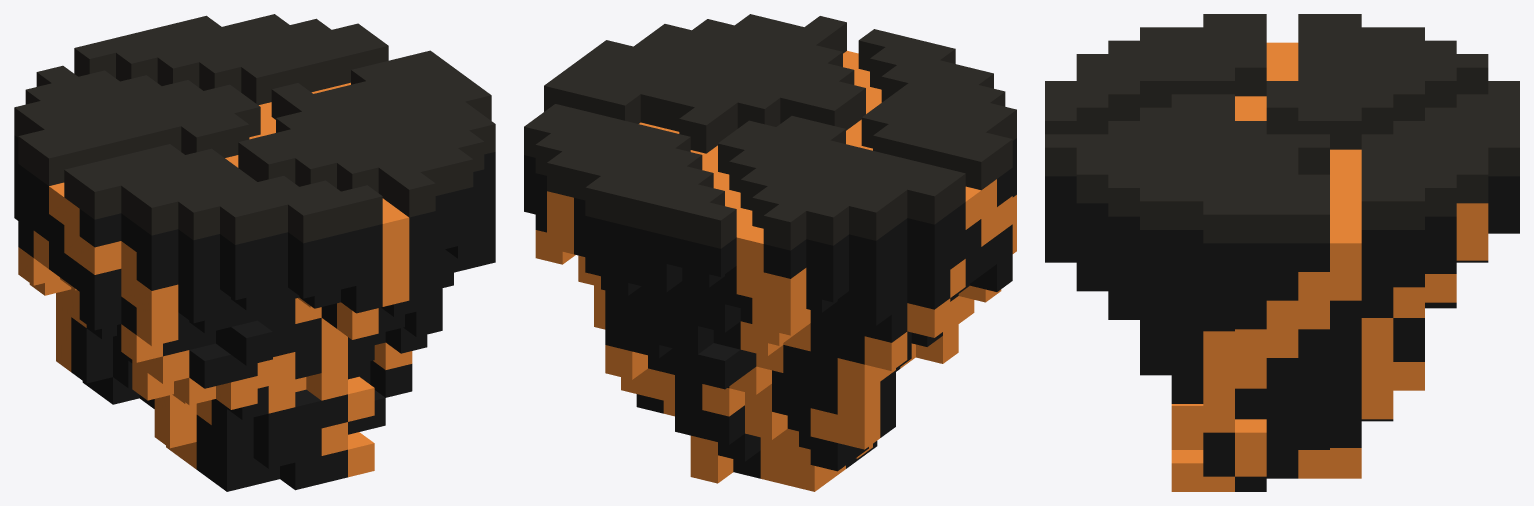
File: LavaPlatform.obj
The picture shows the model from 3 angles, left to right: view 1: azimuth 30°, elevation 25°; view 2: azimuth 150°, elevation 25°; view 3: azimuth 270°, elevation 25°; orthographic projection. The views are drawn at different scales.
Parts seen in each view (by area): view 1: LavaPlatform; view 2: LavaPlatform; view 3: LavaPlatform.
Part boxes in pixels (box(x1,y1,x2,y2)): LavaPlatform: box(14, 14, 495, 491); LavaPlatform: box(524, 14, 1016, 491); LavaPlatform: box(1045, 14, 1519, 491).
Size of the model in its own units: 15 by 12 by 15.
Materials: 1 (1 with a texture image).
